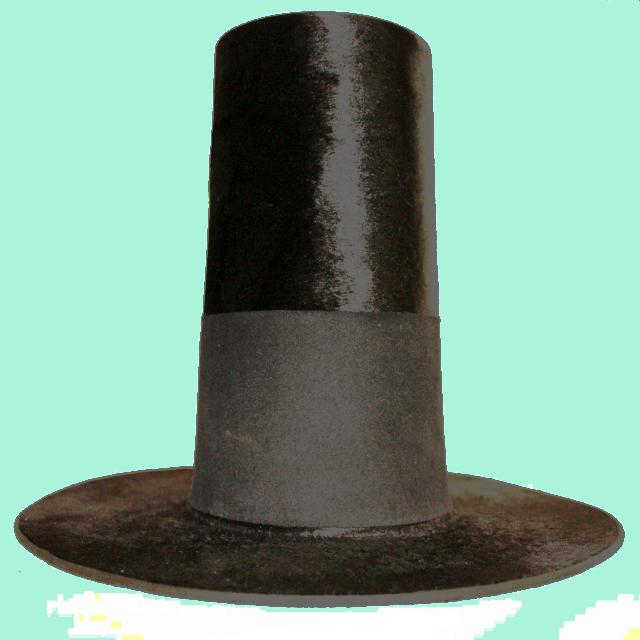TOPI: (9, 3, 632, 615)
